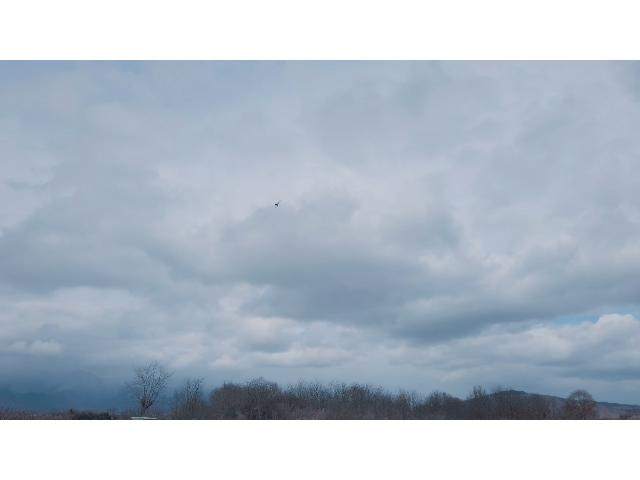Anti-Drone: (270, 196, 284, 214)
